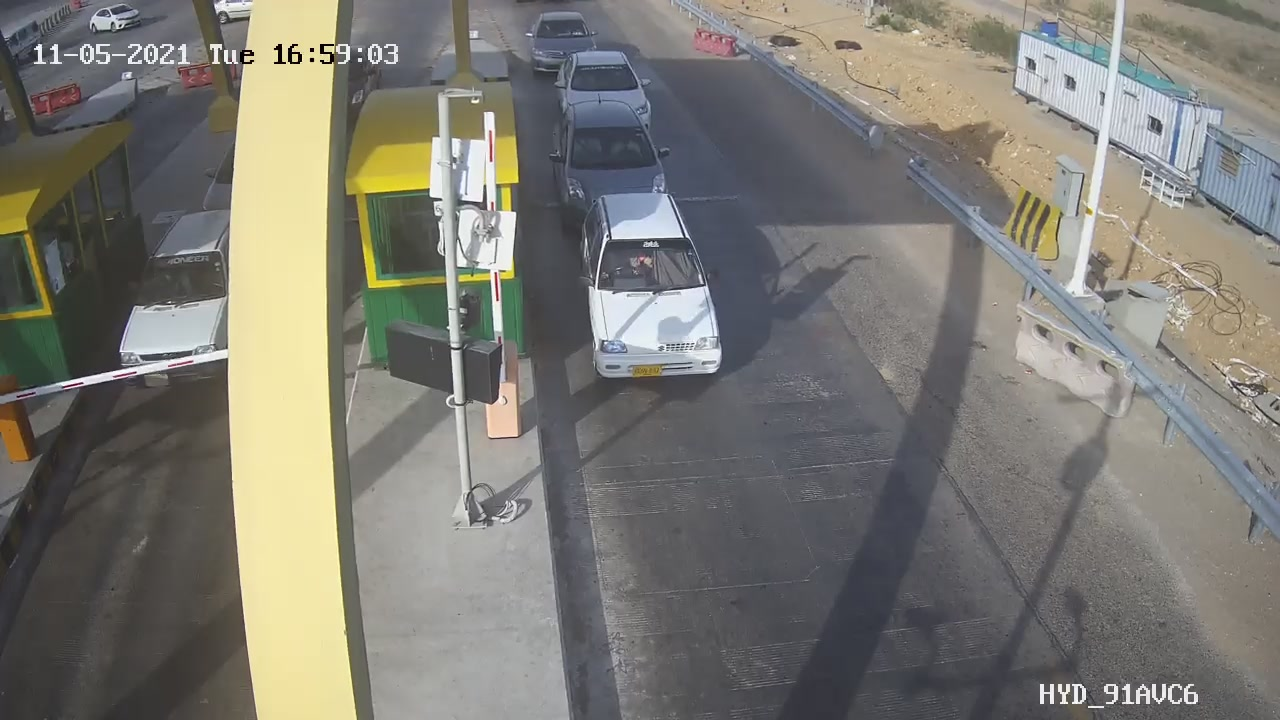F1: (565, 181, 742, 399), (535, 94, 686, 227)
